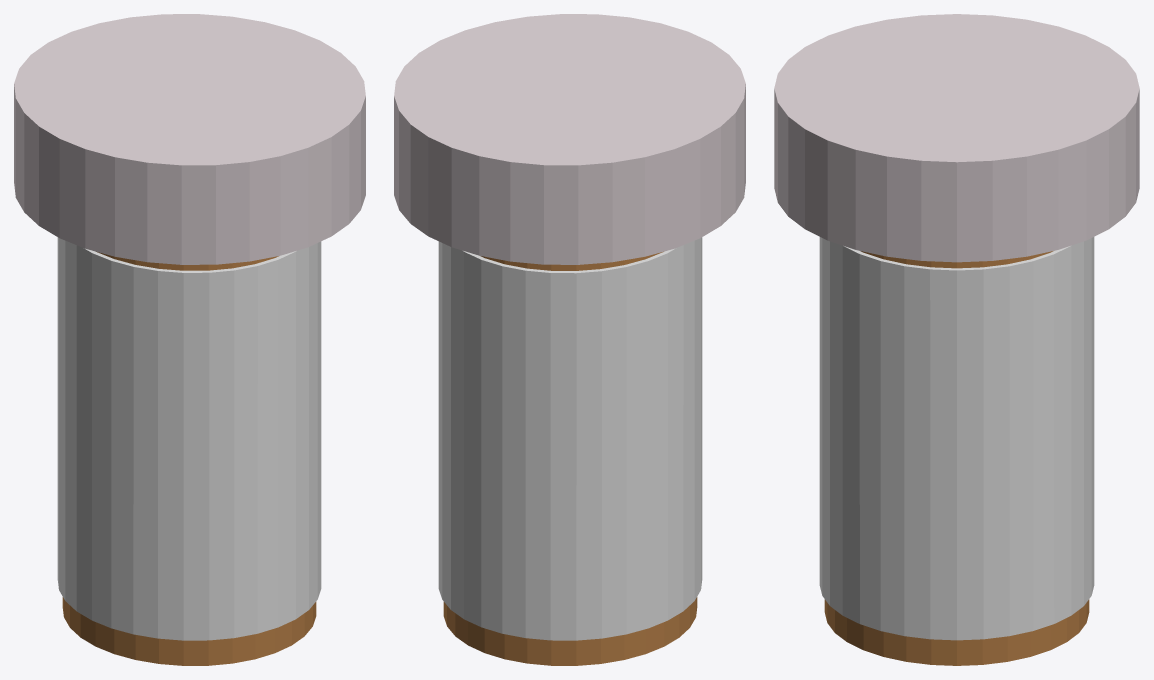
The model's file is bottle.fbx.
The picture shows the model from 3 angles, left to right: view 1: azimuth 30°, elevation 25°; view 2: azimuth 150°, elevation 25°; view 3: azimuth 270°, elevation 25°; orthographic projection.
Parts seen in each view (by area): view 1: Cylinder.002, Cylinder.001, Cylinder; view 2: Cylinder.002, Cylinder.001, Cylinder; view 3: Cylinder.002, Cylinder.001, Cylinder.
Boxes of the visible parts, x1,y1,x2,y2 form: Cylinder.002: (57,237,321,640); Cylinder.001: (14,14,365,264); Cylinder: (62,251,316,665); Cylinder.002: (438,237,702,640); Cylinder.001: (394,14,745,264); Cylinder: (443,251,697,665); Cylinder.002: (819,237,1094,640); Cylinder.001: (774,14,1139,262); Cylinder: (824,251,1089,665).
Size of the model in its own units: 489 by 808 by 510.
